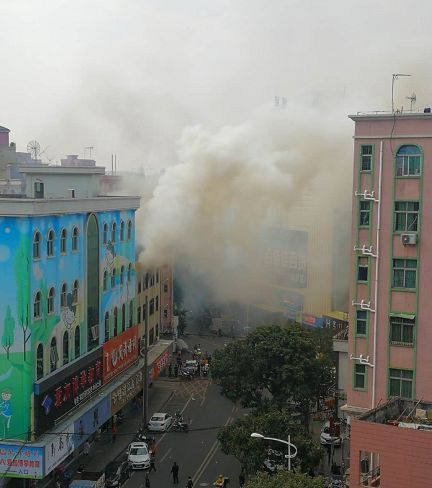smoke: (142, 105, 331, 256)
